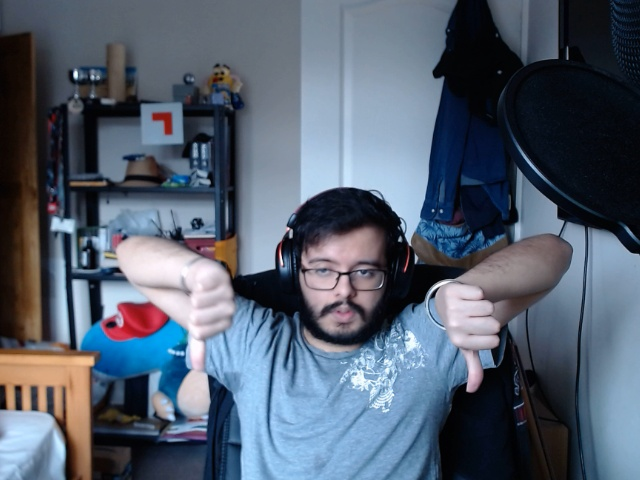Thumbs down: (427, 269, 511, 396), (179, 244, 242, 377)
